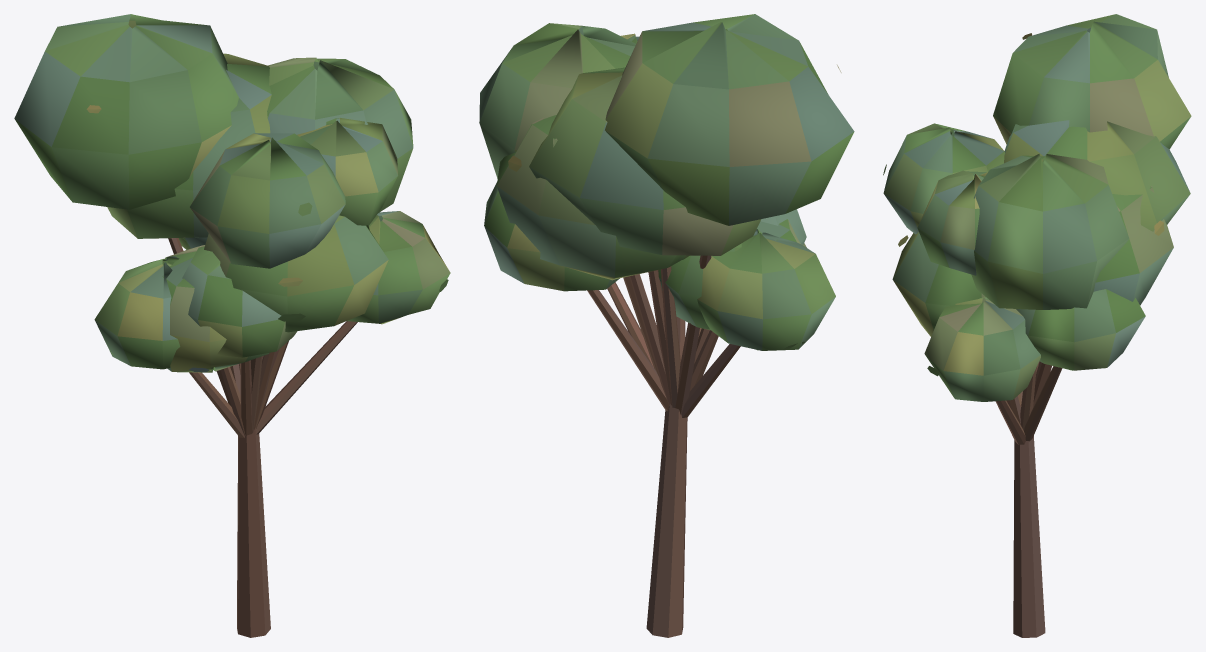
Rendered from HK_Tree_Zelkova.lod.glb.
3 views of the same model, side by side, from view 1: azimuth 30°, elevation 25°; view 2: azimuth 150°, elevation 25°; view 3: azimuth 270°, elevation 25° (orthographic). The views are drawn at different scales.
Parts seen in each view (by area): view 1: HK_Tree_Zelkova; view 2: HK_Tree_Zelkova; view 3: HK_Tree_Zelkova.
Part boxes in pixels (x1,y1,x2,y2): HK_Tree_Zelkova: (14, 14, 450, 637); HK_Tree_Zelkova: (479, 14, 854, 637); HK_Tree_Zelkova: (883, 14, 1191, 637).
Size of the model in its own units: 5.08 by 8.4 by 4.11.
